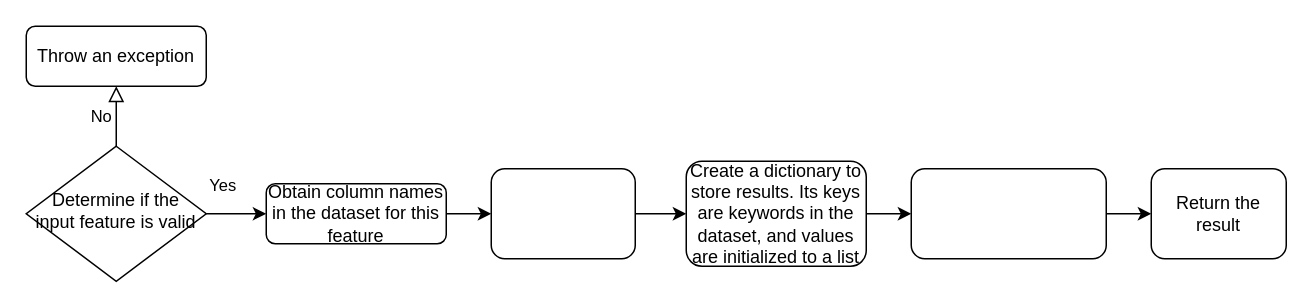
This 1313x308 diagram has some shape labels left out. Here are the shapes that lost their labels. From the top down, the centre of each, then its label:
At [562,213]: "Obtain all the keywords in the dataset".
At [1008,213]: "Extract keywords in all rows and append the number of keywords to the dictionary".
